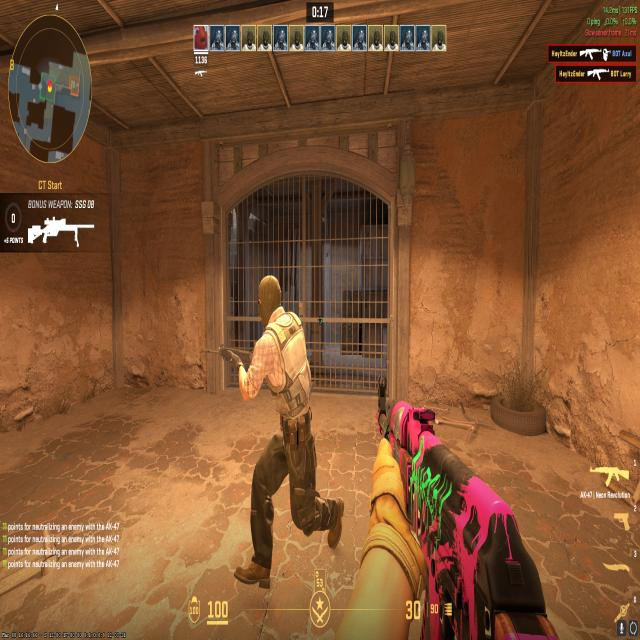t: (209, 260, 353, 586)
